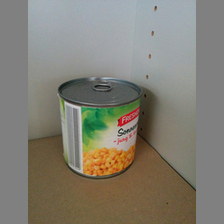corn: (56, 76, 142, 180)
